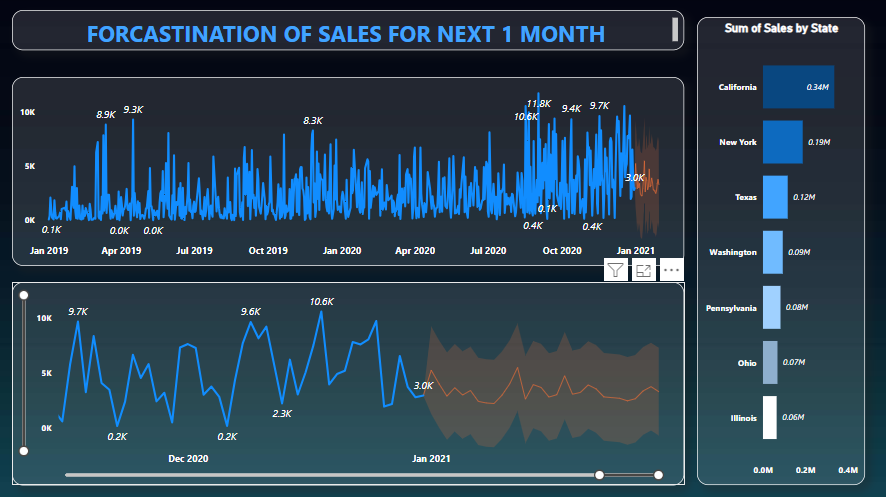

The page's visual inventory and layout, read from the dashboard file:
{"tool":"powerbi","page":{"name":"Page 2","canvas":[1280,720],"ordinal":1},"visuals":[{"type":"lineChart","fields":{"Y":["Sum(SuperStore_Sales_Dataset.Sales)"],"Category":["SuperStore_Sales_Dataset.Order Date"]},"box":[17.3,113.1,968.5,272.3],"z":0},{"type":"lineChart","fields":{"Y":["Sum(SuperStore_Sales_Dataset.Sales)"],"Category":["SuperStore_Sales_Dataset.Order Date"]},"box":[17.3,408.5,968.5,293.4],"z":1000},{"type":"barChart","fields":{"Y":["Sum(SuperStore_Sales_Dataset.Sales)"],"Category":["SuperStore_Sales_Dataset.State"]},"box":[1004.1,26.8,241.5,674.1],"z":2000},{"type":"textbox","box":[17.3,17.3,968.5,57.5],"z":3000}]}

Visuals, with their boxes in screenshot pixels (x1, y1, x2, y2), scaled from the page's 1280x720 canvas onto the 886x497 screenshot:
lineChart - Sum(SuperStore_Sales_Dataset.Sales) x SuperStore_Sales_Dataset.Order Date: <box>12,78,682,266</box>
lineChart - Sum(SuperStore_Sales_Dataset.Sales) x SuperStore_Sales_Dataset.Order Date: <box>12,282,682,485</box>
barChart - Sum(SuperStore_Sales_Dataset.Sales) x SuperStore_Sales_Dataset.State: <box>695,18,862,484</box>
textbox: <box>12,12,682,52</box>
